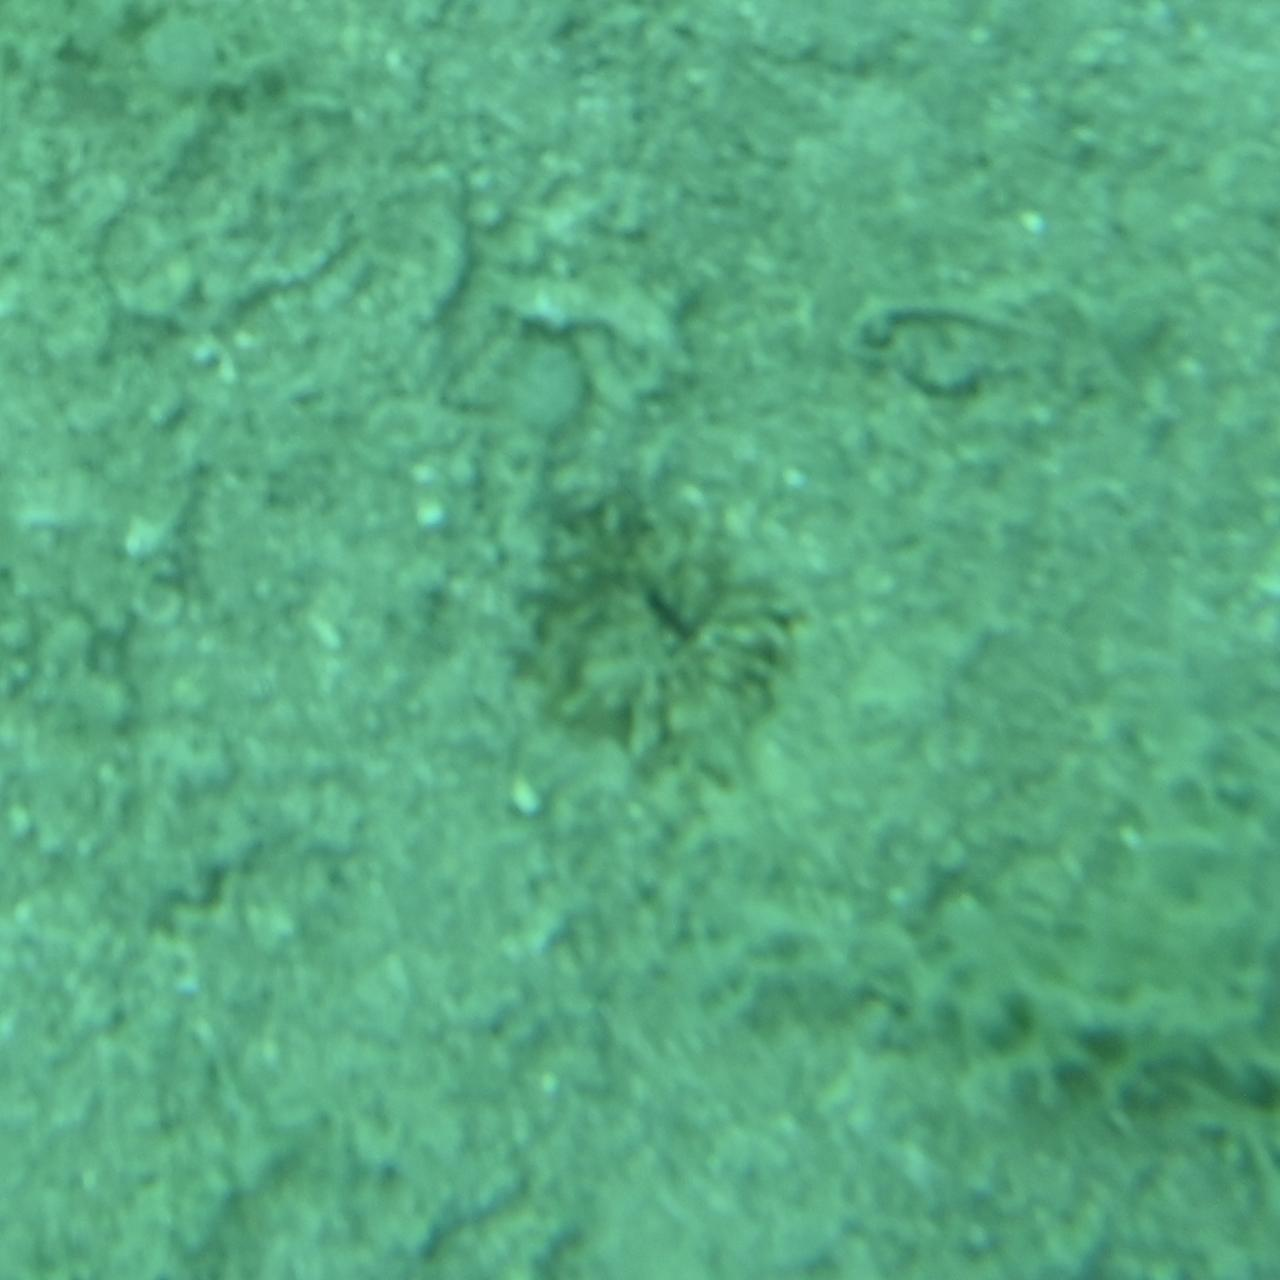Condylactis aurantiaca: (470, 475, 810, 805)
